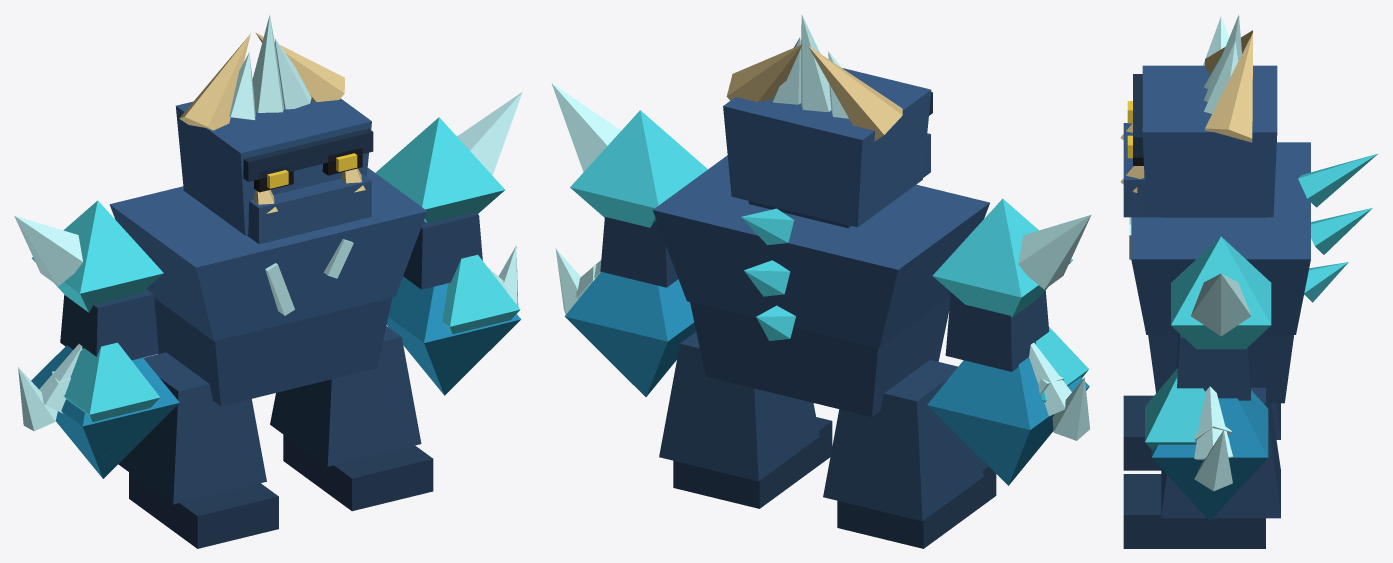
Rendered from enemy_icebreaker.glb.
3 views of the same model, side by side, from view 1: azimuth 30°, elevation 25°; view 2: azimuth 150°, elevation 25°; view 3: azimuth 270°, elevation 25° (orthographic). The views are drawn at different scales.
Visible parts, largest first — view 1: enemy_icebreaker; view 2: enemy_icebreaker; view 3: enemy_icebreaker.
Part boxes in pixels (x1,y1,x2,y2): enemy_icebreaker: (14, 14, 522, 548); enemy_icebreaker: (551, 14, 1091, 548); enemy_icebreaker: (1120, 14, 1377, 548).
Size of the model in its own units: 1.63 by 1.42 by 0.6903.
